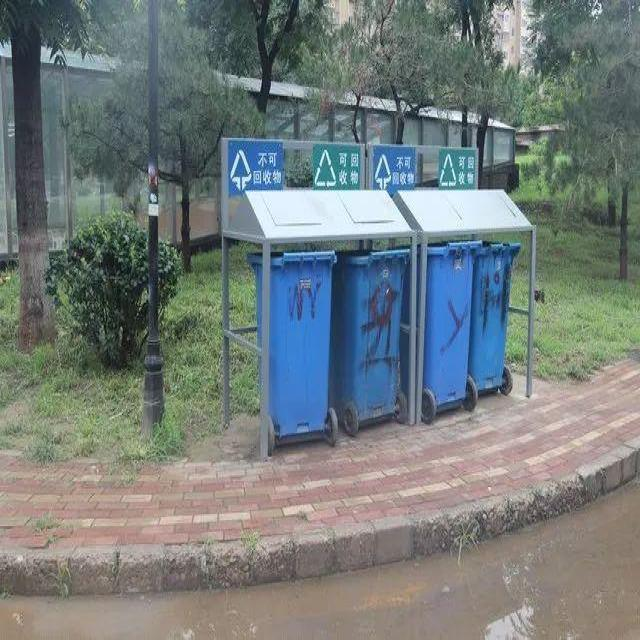garbage_bin: (247, 247, 334, 435), (329, 247, 410, 420), (399, 240, 480, 406), (467, 241, 521, 393)
